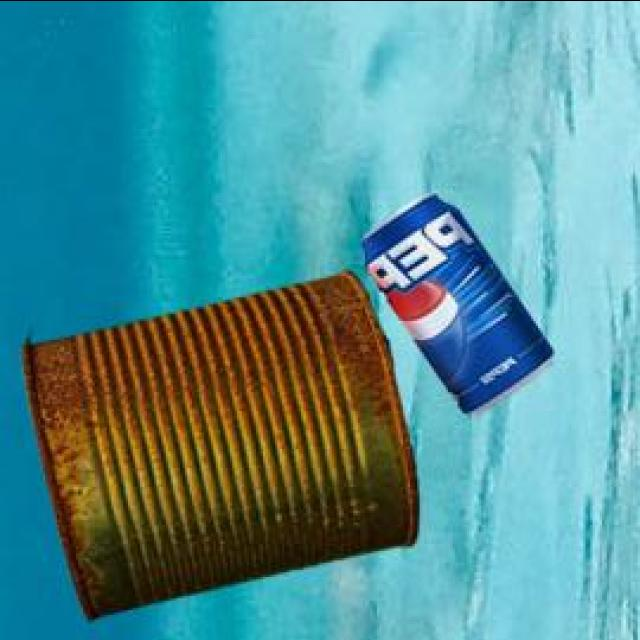logam: (25, 274, 423, 622), (366, 196, 556, 416)
